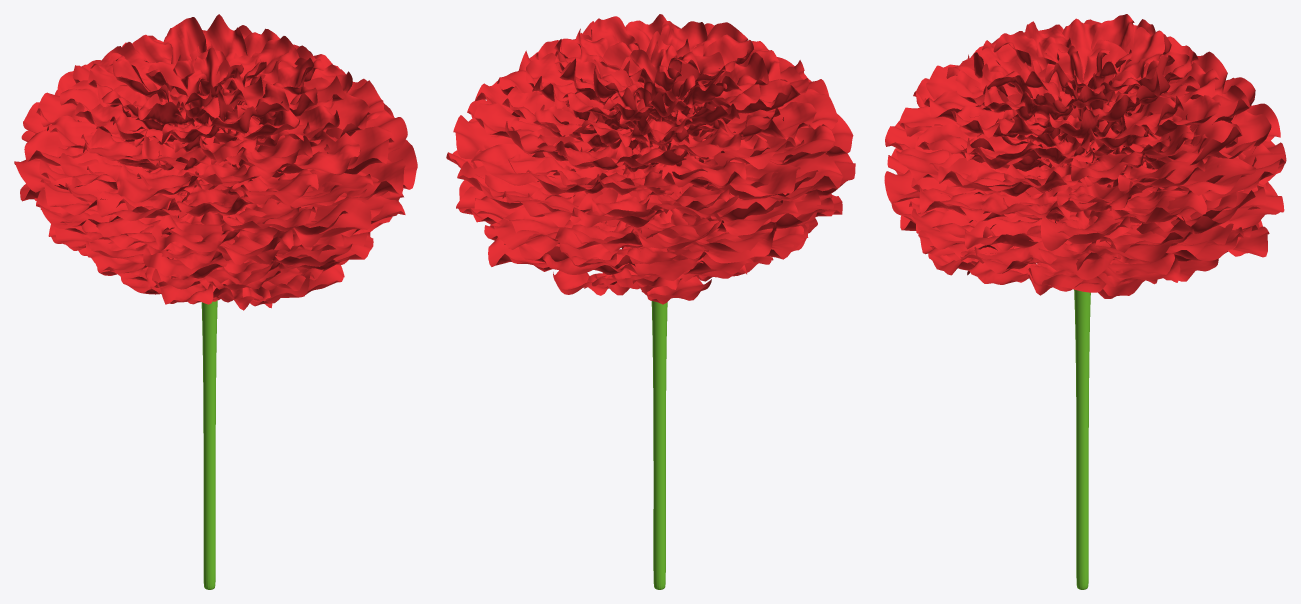
Rendered from marigold.fbx.
3 views of the same model, side by side, from view 1: azimuth 30°, elevation 25°; view 2: azimuth 150°, elevation 25°; view 3: azimuth 270°, elevation 25° (orthographic).
Parts seen in each view (by area): view 1: flower.001, flower, Cylinder; view 2: flower.001, flower, Cylinder; view 3: flower.001, flower, Cylinder.
Part boxes in pixels (x1,y1,x2,y2): flower.001: (14, 14, 417, 306); flower: (34, 89, 390, 310); Cylinder: (177, 185, 227, 589); flower.001: (446, 14, 855, 295); flower: (470, 77, 834, 304); Cylinder: (601, 171, 710, 589); flower.001: (884, 14, 1286, 295); flower: (909, 78, 1266, 298); Cylinder: (1027, 182, 1150, 589).
Bounding box in the file's own units: 890 × 1309 × 875.
